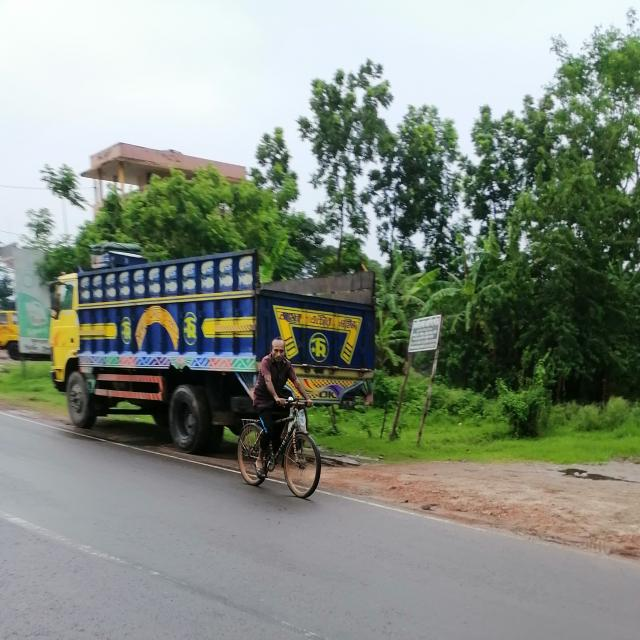Bicycle: (235, 403, 345, 502)
Truck: (47, 203, 387, 459)
